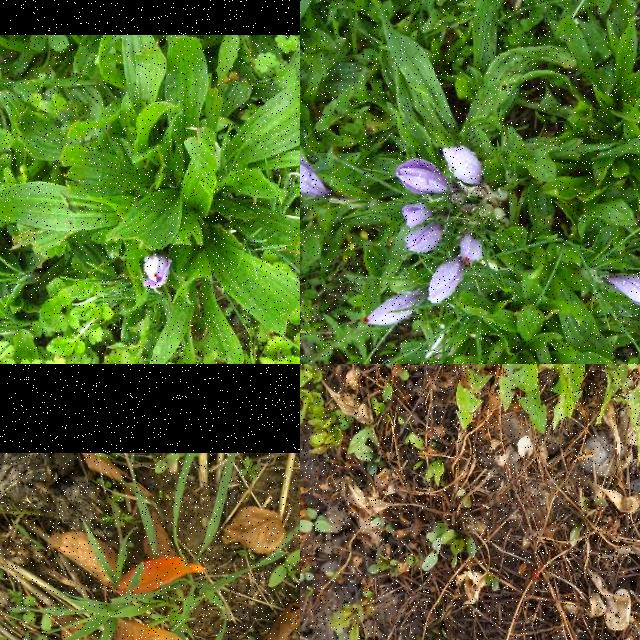flower: (396, 158, 448, 196), (362, 292, 420, 326), (442, 147, 486, 186), (428, 260, 462, 304), (404, 220, 444, 254), (300, 156, 329, 198), (143, 255, 173, 289), (610, 275, 640, 307), (401, 202, 433, 228), (461, 234, 484, 266)
